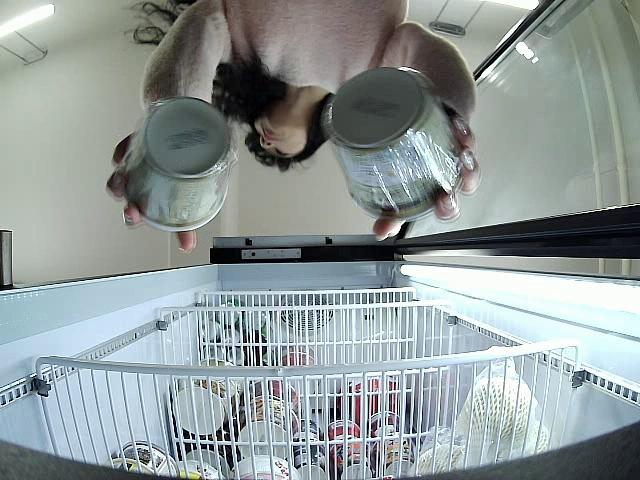00_hand: (373, 113, 477, 243), (106, 131, 196, 255)
04_chapagetti_S: (323, 65, 462, 216), (118, 97, 232, 230)
